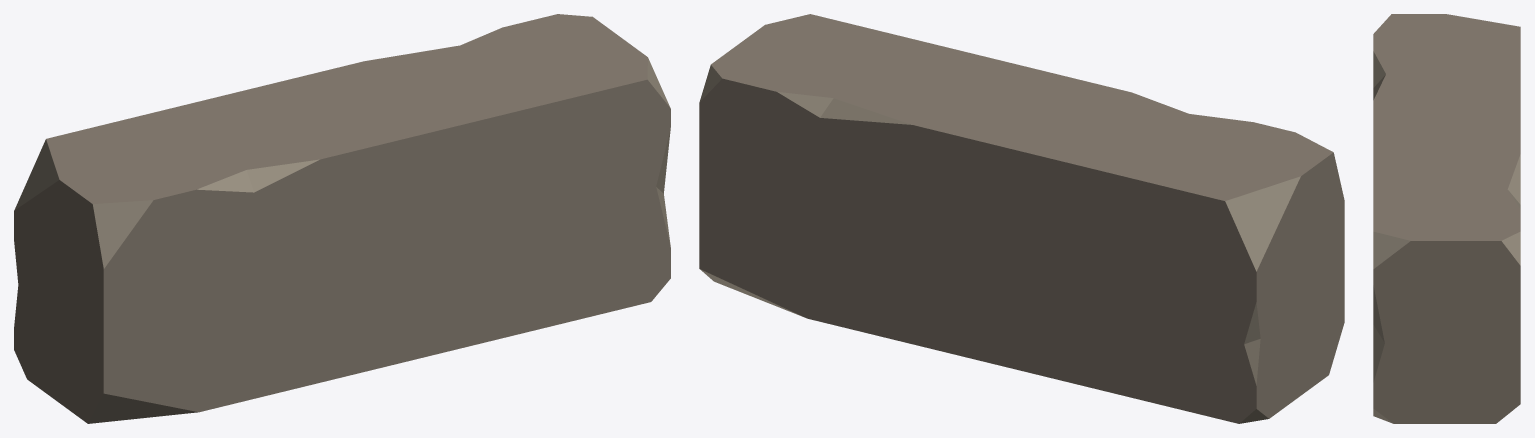
File: SM_Bld_Concrete_Slab_04.fbx
The picture shows the model from 3 angles, left to right: view 1: azimuth 30°, elevation 25°; view 2: azimuth 150°, elevation 25°; view 3: azimuth 270°, elevation 25°; orthographic projection. The views are drawn at different scales.
Parts seen in each view (by area): view 1: SM_Bld_Concrete_Slab_04; view 2: SM_Bld_Concrete_Slab_04; view 3: SM_Bld_Concrete_Slab_04.
Part boxes in pixels (x1,y1,x2,y2): SM_Bld_Concrete_Slab_04: (14, 14, 670, 423); SM_Bld_Concrete_Slab_04: (699, 14, 1344, 423); SM_Bld_Concrete_Slab_04: (1373, 14, 1520, 423).
Size of the model in its own units: 154 by 57.79 by 42.07.
